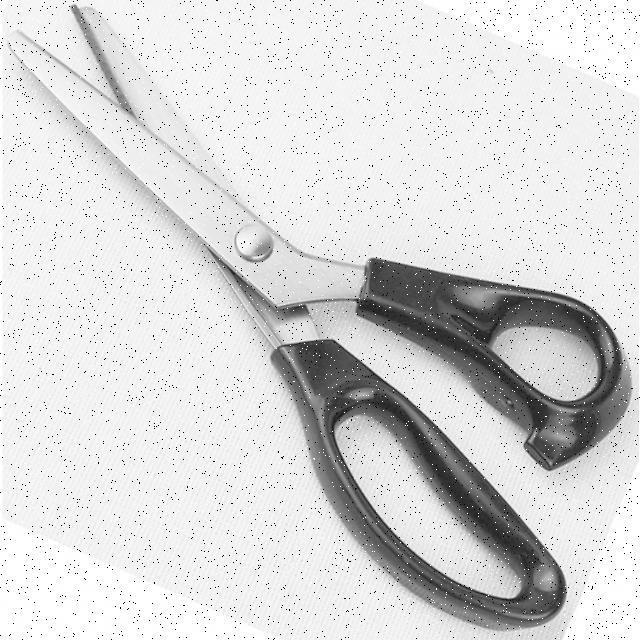scissors: (5, 0, 638, 632)
